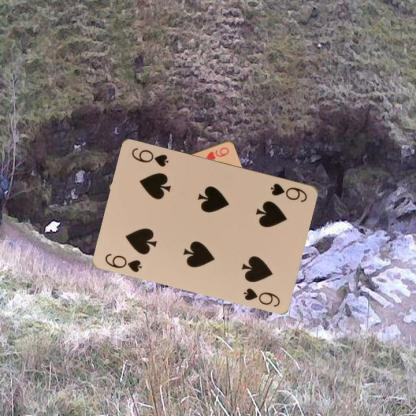6s: (268, 180, 309, 204), (102, 251, 144, 273)
9h: (203, 145, 230, 162)
